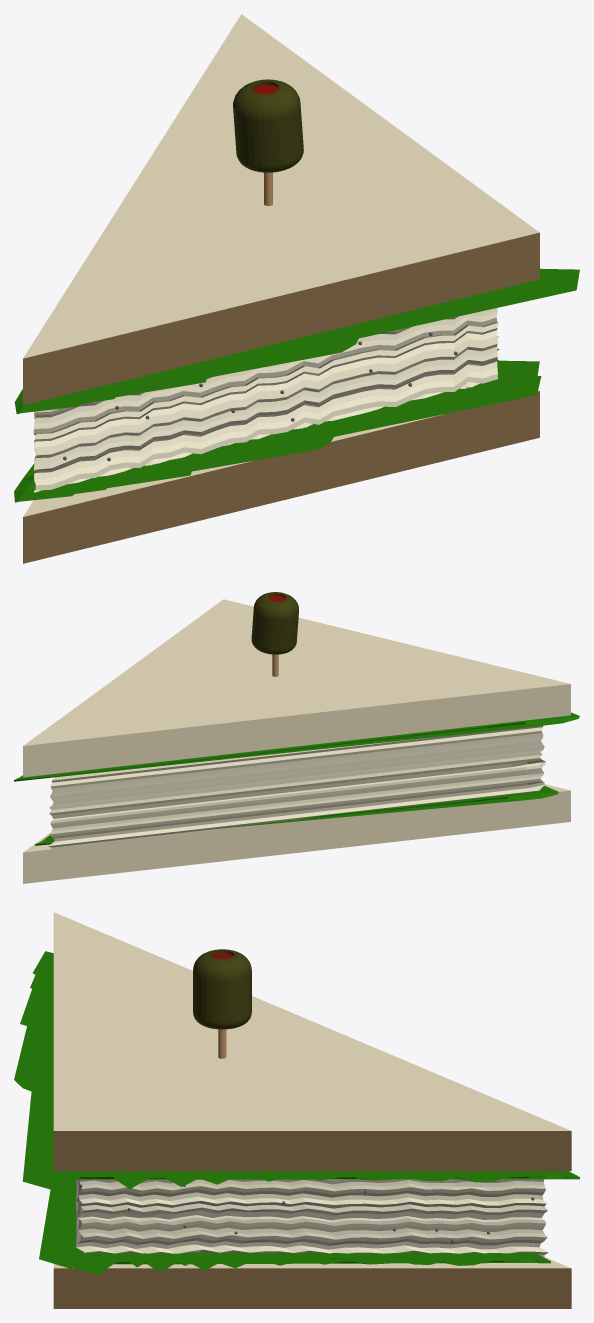
The model's file is Tuna.fbx.
3 views of the same model, one above another, from view 1: azimuth 30°, elevation 25°; view 2: azimuth 150°, elevation 25°; view 3: azimuth 270°, elevation 25° (orthographic). The views are drawn at different scales.
Visible parts, largest first — view 1: bread top, tuna chunk, bread top.001, lettuce, lettuce.001, Cylinder.001, lettuce.002; view 2: bread top, tuna chunk, bread top.001, lettuce, Cylinder.001, lettuce.001; view 3: bread top, tuna chunk, bread top.001, lettuce, lettuce.001, Cylinder.001, lettuce.002.
Part boxes in pixels (x1,y1,x2,y2): bread top: (23,14,539,405); tuna chunk: (33,308,498,492); bread top.001: (23,390,539,563); lettuce: (14,268,579,413); lettuce.001: (14,348,541,502); Cylinder.001: (233,79,303,172); lettuce.002: (278,336,539,439); bread top: (23,599,570,777); tuna chunk: (48,725,545,849); bread top.001: (23,784,570,883); lettuce: (14,712,579,781); Cylinder.001: (251,592,298,654); lettuce.001: (35,786,558,845); bread top: (53,912,571,1171); tuna chunk: (75,1179,548,1256); bread top.001: (53,1257,571,1308); lettuce: (14,951,579,1191); lettuce.001: (39,1180,550,1268); Cylinder.001: (193,949,251,1029); lettuce.002: (67,1182,541,1274).
Bounding box in the file's own units: 220 × 119 × 219.
